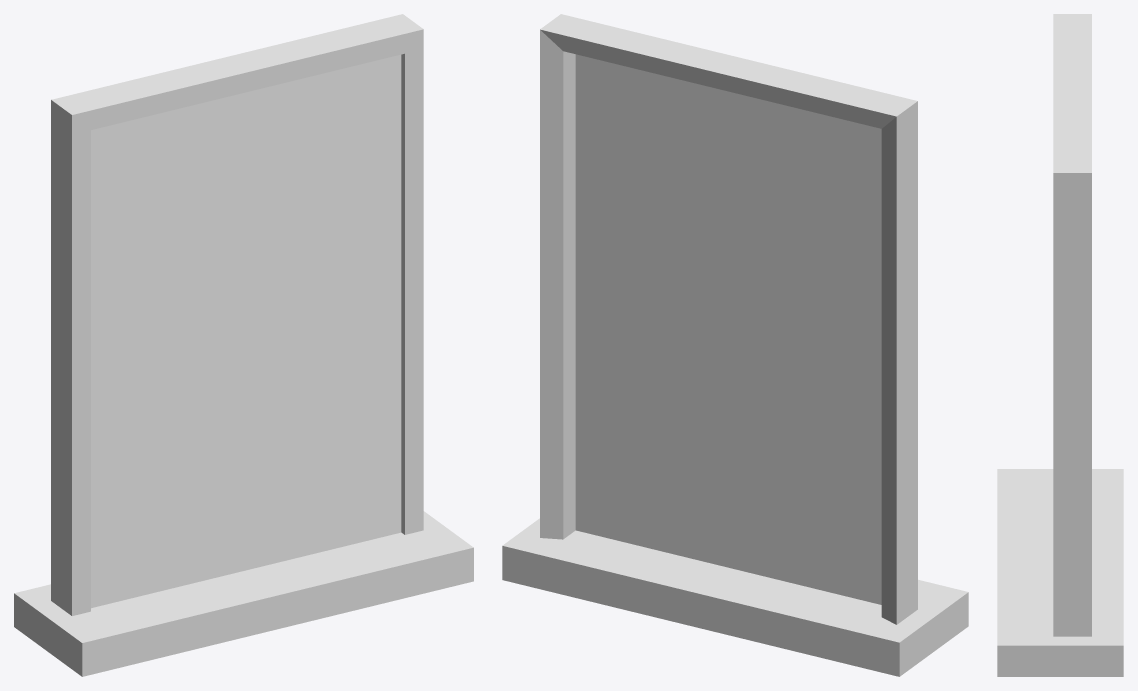
The model's file is window_009.fbx.
3 renders of one model, left to right at view 1: azimuth 30°, elevation 25°; view 2: azimuth 150°, elevation 25°; view 3: azimuth 270°, elevation 25°, orthographic. The views are drawn at different scales.
Visible parts, largest first — view 1: window_009; view 2: window_009; view 3: window_009.
Part boxes in pixels (x1,y1,x2,y2): window_009: (14,14,473,676); window_009: (502,14,968,676); window_009: (997,14,1123,676).
Size of the model in its own units: 142 by 42.75 by 185.
